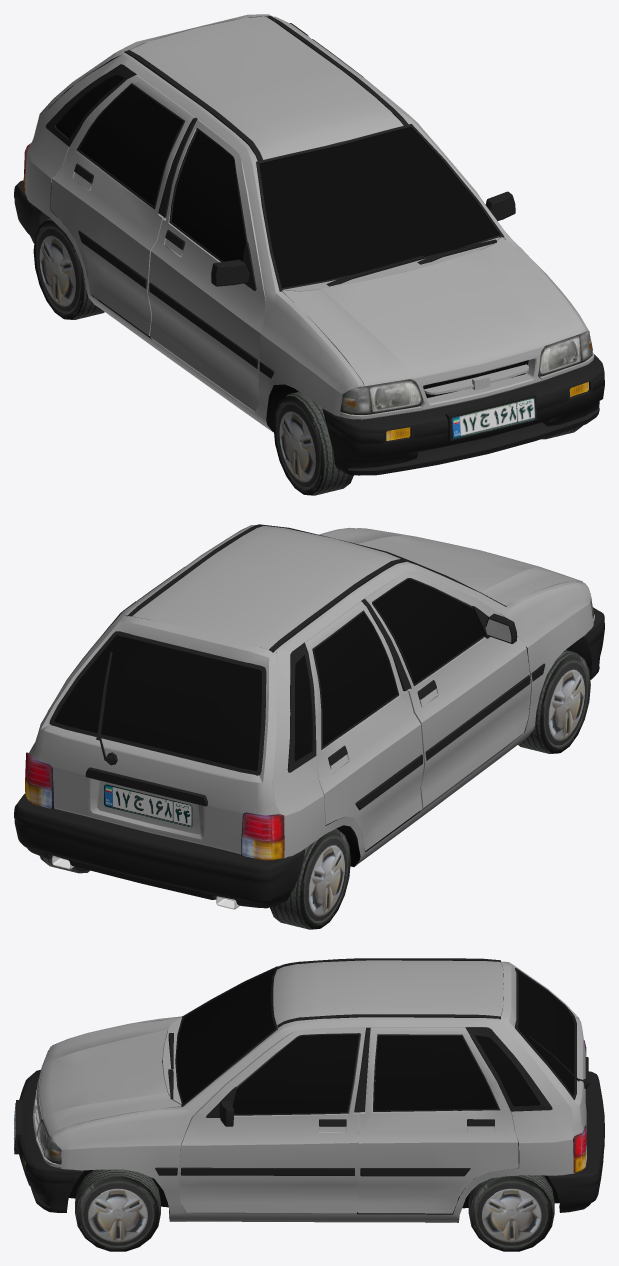
The model's file is saipa nasim.FBX.
3 views of the same model, one above another, from view 1: azimuth 30°, elevation 25°; view 2: azimuth 150°, elevation 25°; view 3: azimuth 270°, elevation 25° (orthographic). The views are drawn at different scales.
Visible parts, largest first — view 1: body, glass, plastic, tire_fr, tire_rr, frontlamps, licenseplate, black; view 2: body, glass, plastic, tire_rr, tire_fr, rearlamps, licenseplate, steel, black; view 3: body, glass, plastic, tire_fl, tire_rl, black, frontlamps, rearlamps.
Boxes of the visible parts, x1,y1,x2,y2 form: body: (25, 14, 594, 431); glass: (56, 55, 499, 288); plastic: (14, 16, 604, 475); tire_fr: (273, 391, 353, 495); tire_rr: (33, 217, 104, 319); frontlamps: (340, 331, 592, 414); licenseplate: (451, 398, 535, 439); black: (98, 300, 528, 432); body: (29, 525, 594, 866); glass: (54, 579, 484, 770); plastic: (14, 524, 604, 908); tire_rr: (270, 825, 350, 929); tire_fr: (518, 650, 590, 753); rearlamps: (25, 752, 284, 860); licenseplate: (104, 784, 192, 827); steel: (52, 619, 511, 909); black: (311, 636, 527, 866); body: (32, 960, 586, 1222); glass: (176, 969, 573, 1114); plastic: (14, 958, 604, 1212); tire_fl: (75, 1169, 160, 1251); tire_rl: (468, 1163, 554, 1251); black: (69, 1110, 559, 1222); frontlamps: (37, 1050, 61, 1164); rearlamps: (573, 1040, 586, 1172).
Bounding box in the file's own units: 1728 × 1443 × 3593.
Materials: 10 (5 with a texture image).
